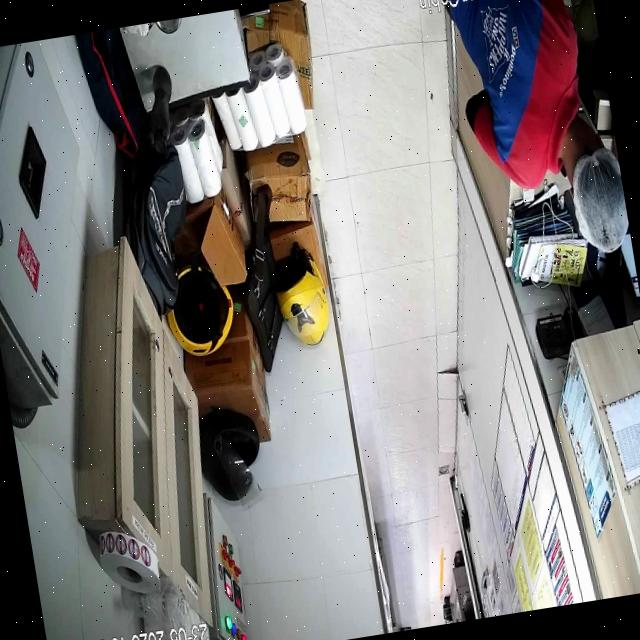helmet: (199, 410, 261, 510), (276, 245, 329, 346)
